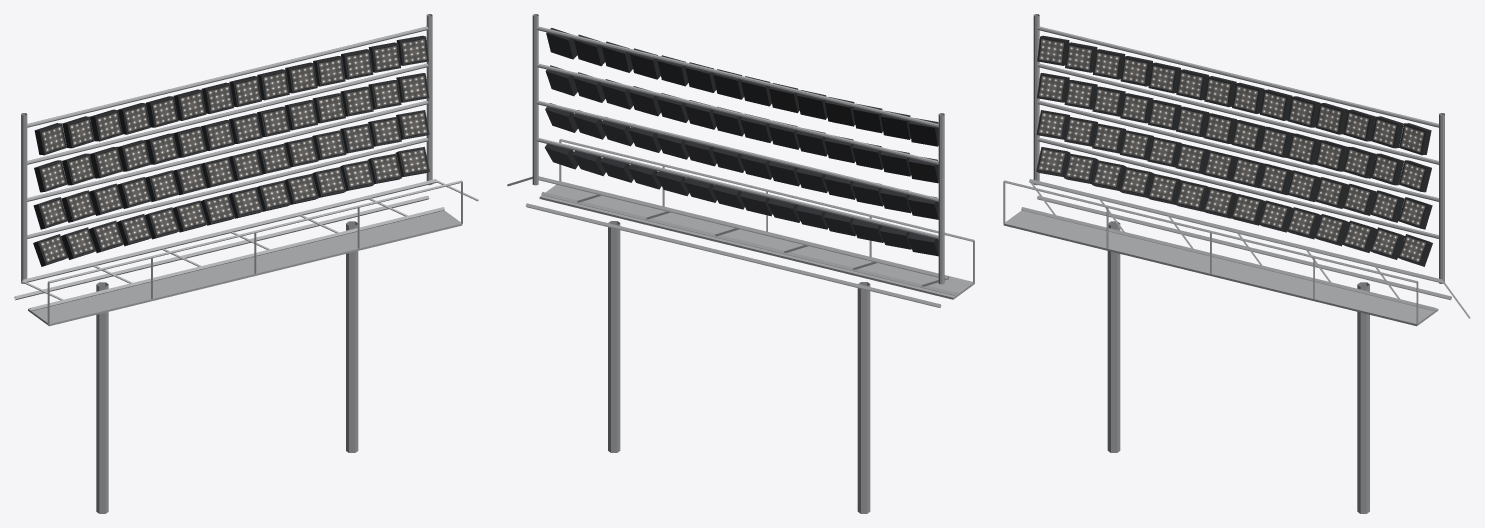
Rendered from light_bank_near.glb.
3 views of the same model, side by side, from view 1: azimuth 30°, elevation 25°; view 2: azimuth 150°, elevation 25°; view 3: azimuth 330°, elevation 25° (orthographic).
Parts seen in each view (by area): view 1: light_bank_near_steel, light_bank_near_lens, light_bank_near_housing; view 2: light_bank_near_housing, light_bank_near_steel; view 3: light_bank_near_steel, light_bank_near_lens, light_bank_near_housing.
Part boxes in pixels (<box>): light_bank_near_steel: <box>14,14,478,513</box>; light_bank_near_lens: <box>39,38,428,262</box>; light_bank_near_housing: <box>33,35,429,266</box>; light_bank_near_housing: <box>544,28,938,256</box>; light_bank_near_steel: <box>507,14,974,513</box>; light_bank_near_steel: <box>1003,14,1470,513</box>; light_bank_near_lens: <box>1038,38,1426,262</box>; light_bank_near_housing: <box>1036,35,1432,266</box>.
Bounding box in the file's own units: 11.58 × 10.26 × 1.58.
Materials: 3 (1 with a texture image).
